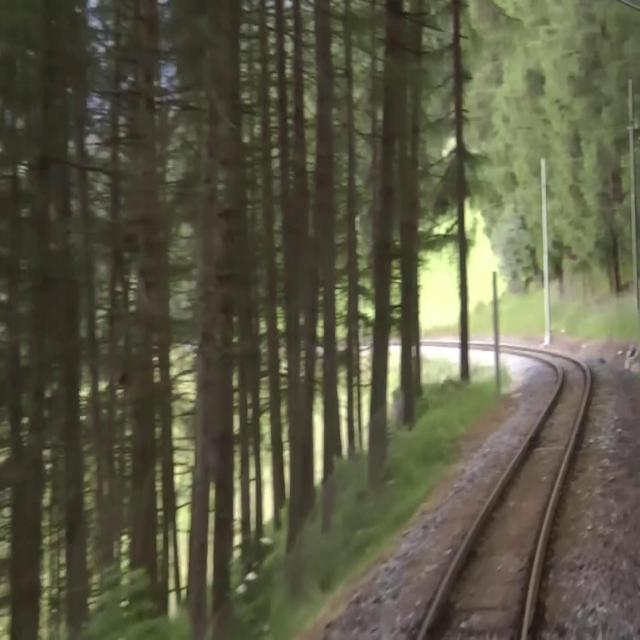rail-track: (423, 356, 585, 639)
